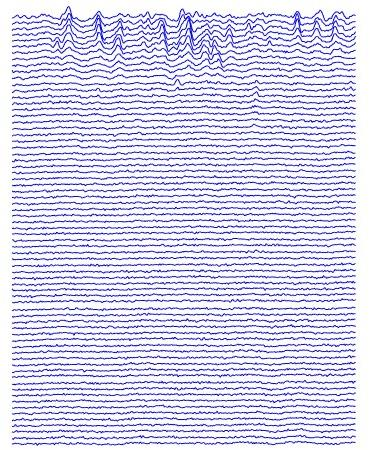defect: (157, 9, 227, 70), (292, 9, 341, 46), (92, 9, 124, 58), (242, 11, 277, 39), (57, 8, 73, 48)
